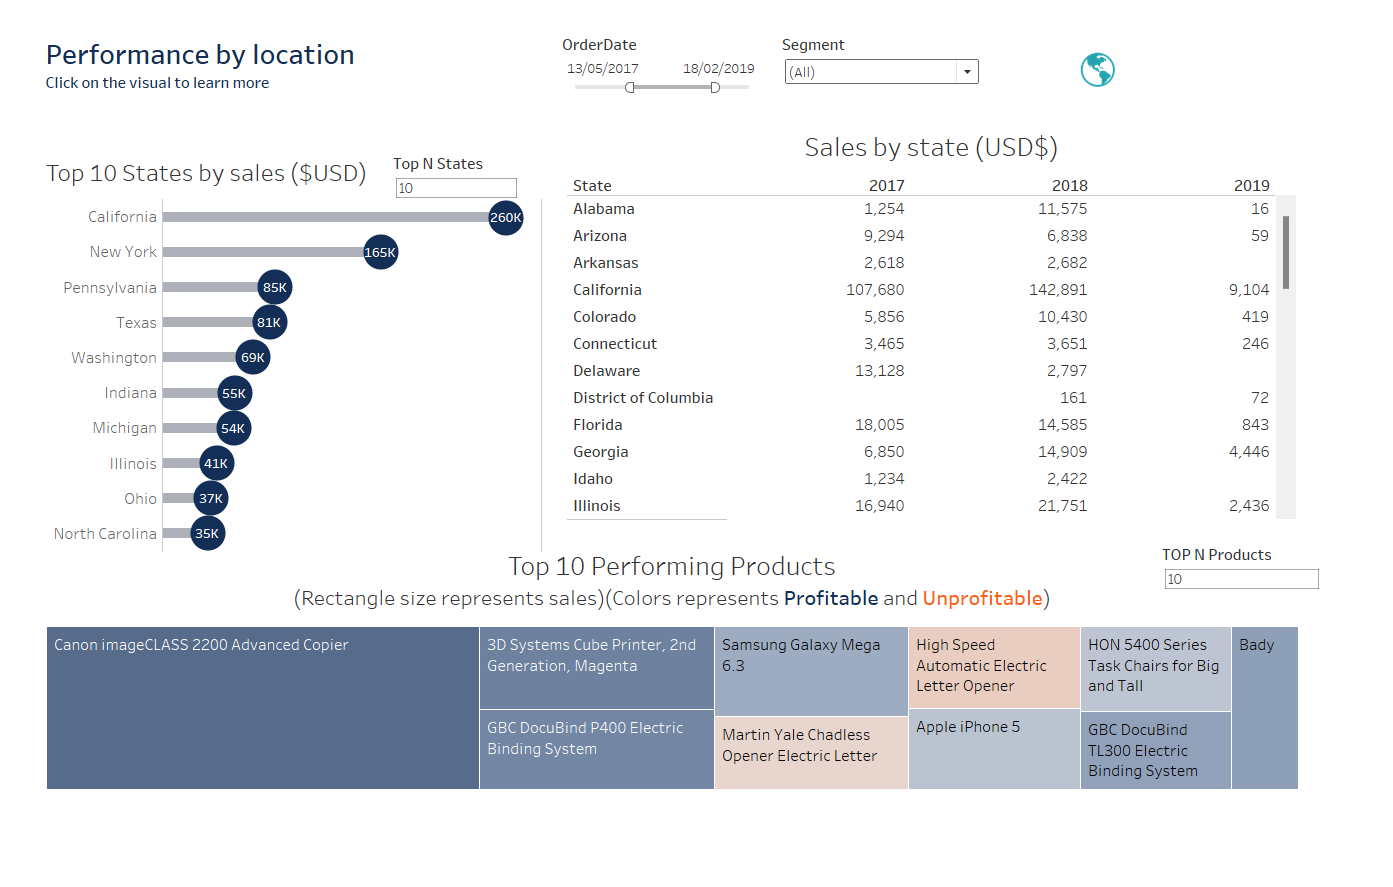

The page's visual inventory and layout, read from the dashboard file:
{"tool":"tableau","page":{"name":"Performance by location Dashboard","canvas":[1300,800],"ordinal":0},"visuals":[{"type":"text","box":[20,20,500,60]},{"type":"filter","title":"SalesByState_LOL","param":"[federated.12y03hx0rq7voi18qg58o0swesog].[none:OrderDate:qk]","box":[540,20,200,60]},{"type":"filter","title":"SalesByState_LOL","param":"[federated.12y03hx0rq7voi18qg58o0swesog].[none:Segment:nk]","box":[760,20,200,60]},{"type":"dashboard-object","box":[1023,34,104,43]},{"type":"worksheet","title":"SalesByState","mark":"Automatic","rows":["State"],"cols":["OrderDate"],"box":[541,107,737,403]},{"type":"worksheet","title":"Sales_Map","mark":"Multipolygon","box":[540,110,740,400]},{"type":"worksheet","title":"SalesByState_LOL","mark":"Automatic","rows":["State"],"cols":["Sales","Sales"],"box":[20,138,500,400]},{"type":"parameter","param":"[Parameters].[Parameter 3]","box":[371,139,127,48]},{"type":"legend","title":"Sales_Map","param":"[federated.12y03hx0rq7voi18qg58o0swesog].[none:Region:nk]","box":[1122,400,152,106]},{"type":"worksheet","title":"TopProducts_Tree","mark":"Square","box":[20,530,1260,250]},{"type":"parameter","param":"[Parameters].[Parameter 4]","box":[1140,530,160,48]}]}

Visuals, with their boxes on the page's 1300x800 design canvas (x1, y1, x2, y2). These are canvas units, not pixel positions in the 1393x887 screenshot, which may show the page scaled, cropped or inside an application window:
text: box(20, 20, 520, 80)
"SalesByState_LOL" filter: box(540, 20, 740, 80)
"SalesByState_LOL" filter: box(760, 20, 960, 80)
dashboard-object: box(1023, 34, 1127, 77)
"SalesByState" worksheet: box(541, 107, 1278, 510)
"Sales_Map" worksheet (Multipolygon marks): box(540, 110, 1280, 510)
"SalesByState_LOL" worksheet: box(20, 138, 520, 538)
parameter: box(371, 139, 498, 187)
"Sales_Map" legend: box(1122, 400, 1274, 506)
"TopProducts_Tree" worksheet (Square marks): box(20, 530, 1280, 780)
parameter: box(1140, 530, 1300, 578)
